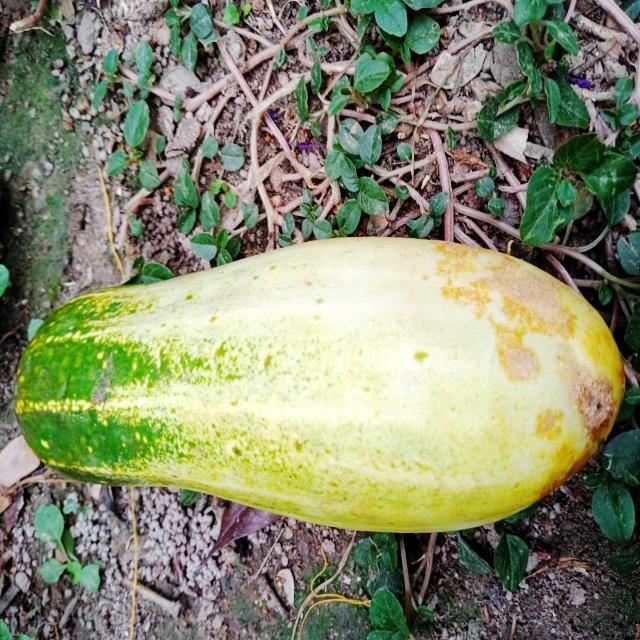Belly-Rot: (430, 234, 626, 481)
